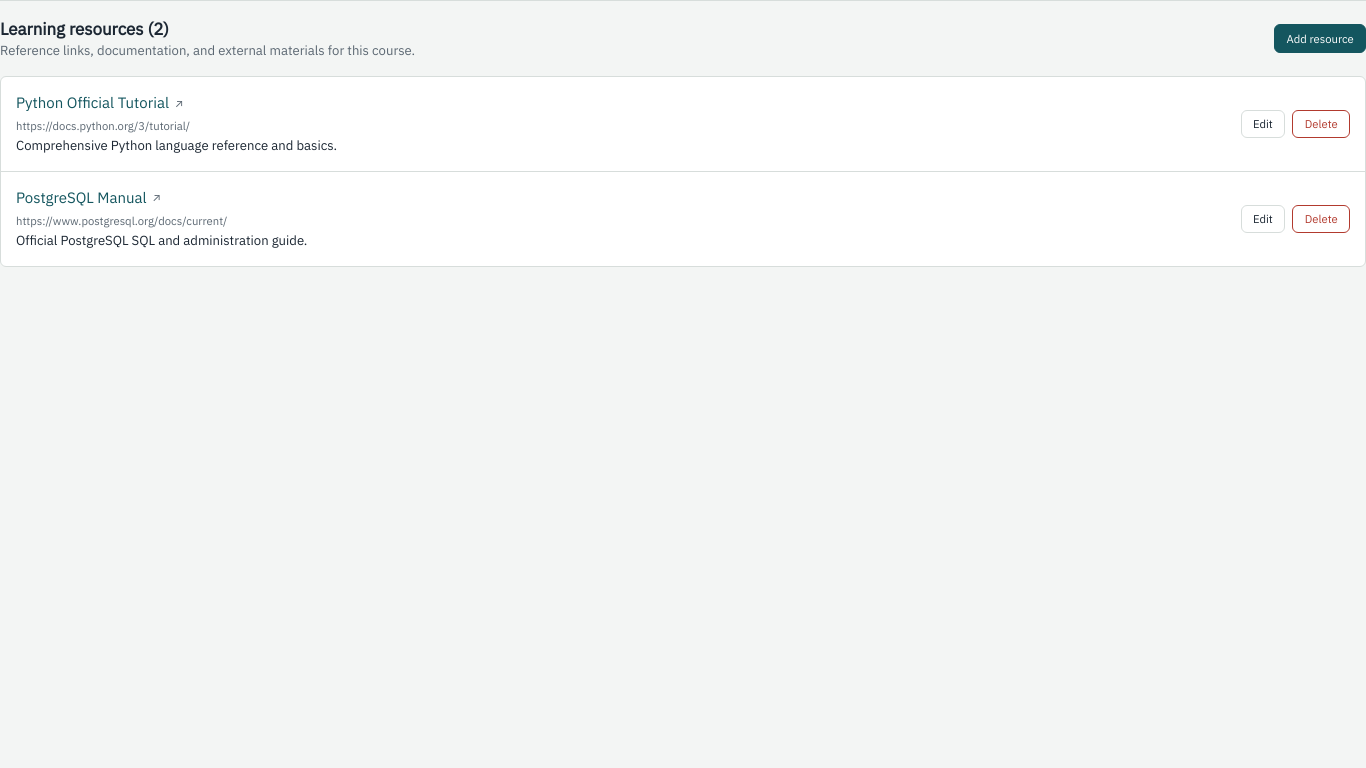
CourseResourcesSection Component › allows owner to delete a resource via ConfirmModal
Expected: the text "Python Official Tutorial" is shown, [16,92,169,114]
Click the button "Delete" in the row of "Python Official Tutorial" at (1321, 124), box [1292,110,1350,138]
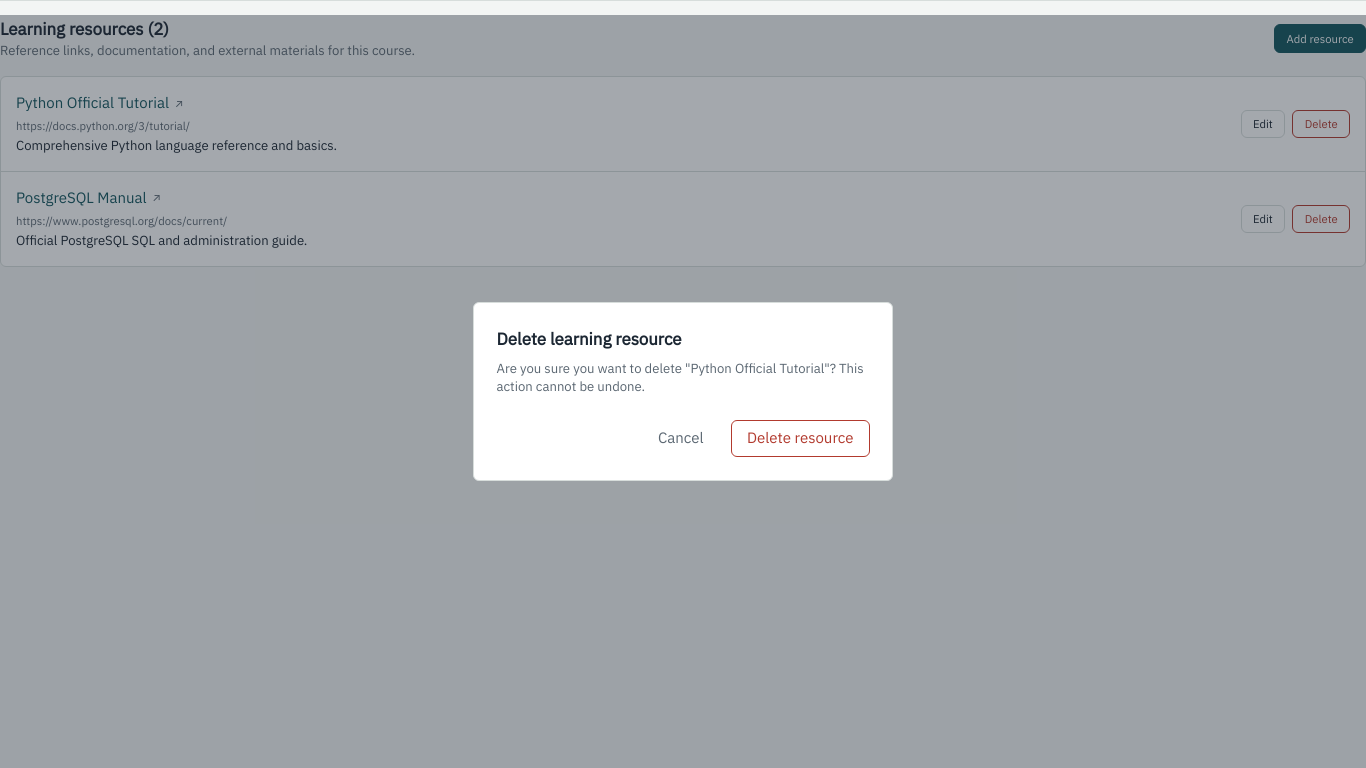
Expected: the heading "Delete learning resource" is shown, [496,328,682,350]
Expected: the text "Are you sure you want to delete \"Python Official Tutorial\"" is shown, [496,360,864,395]
// Confirm deletion
Click the button "Delete resource" at (800, 438), box [731,420,870,457]
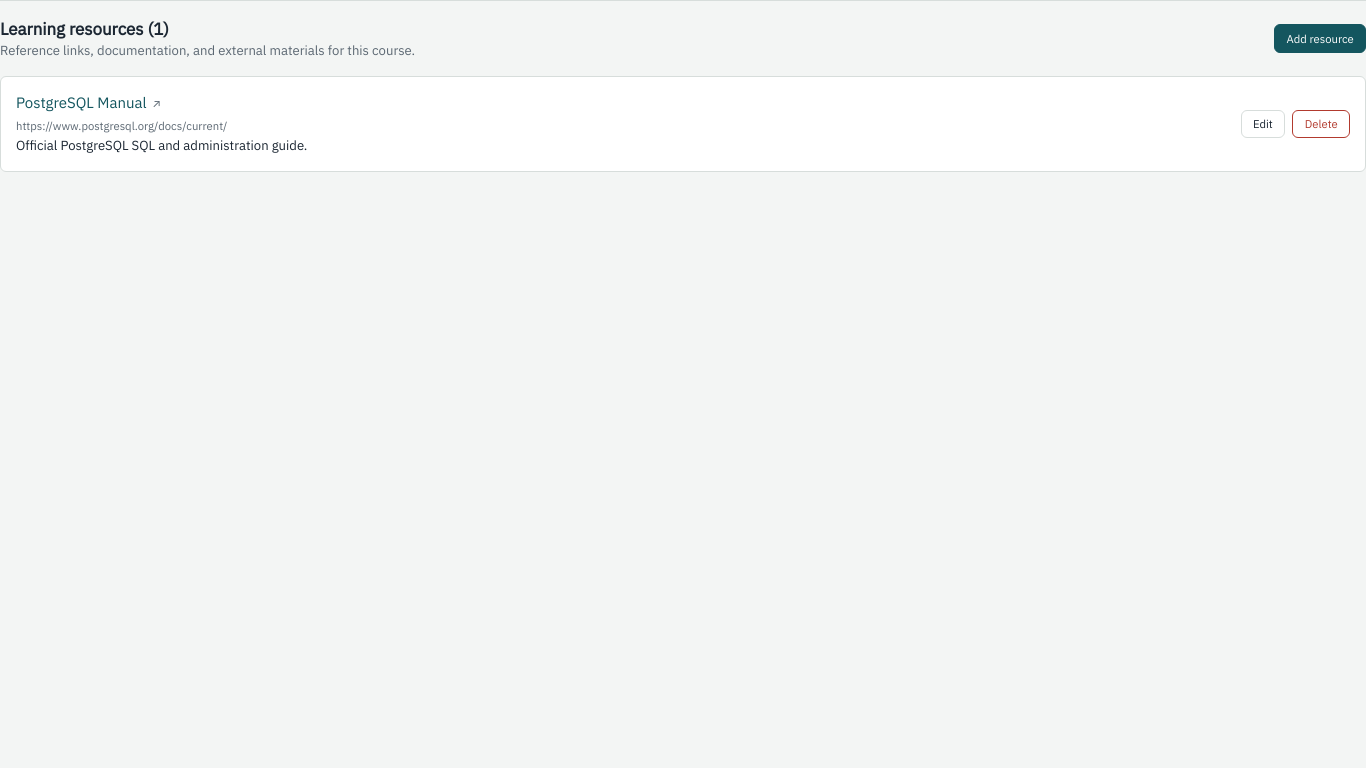
Expected: the text "PostgreSQL Manual" is shown, [16,92,147,114]
Expected: the link "Python Official Tutorial" is gone
